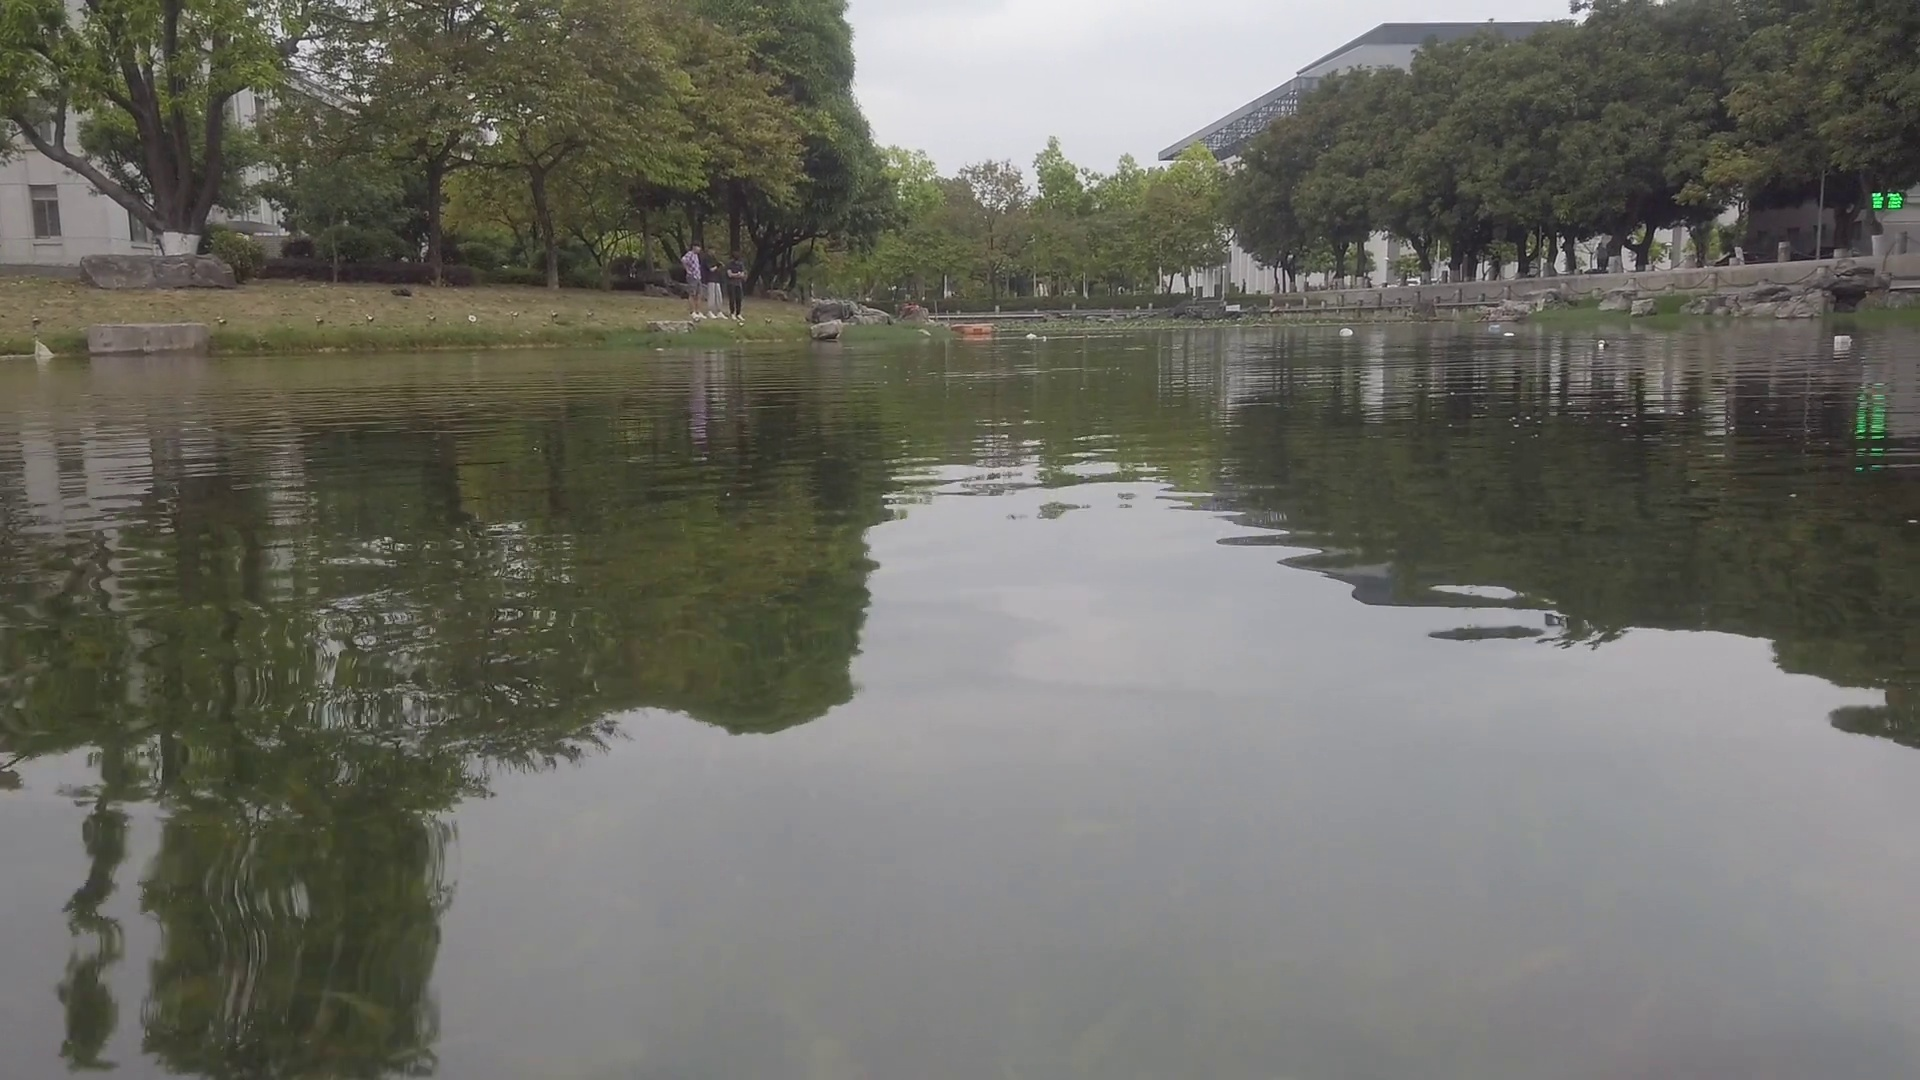bottle: (1600, 342, 1611, 347)
carton: (1834, 334, 1853, 345)
paper: (1505, 327, 1518, 342), (1489, 323, 1499, 331)
plastic: (1338, 327, 1353, 338), (1027, 334, 1036, 339)
